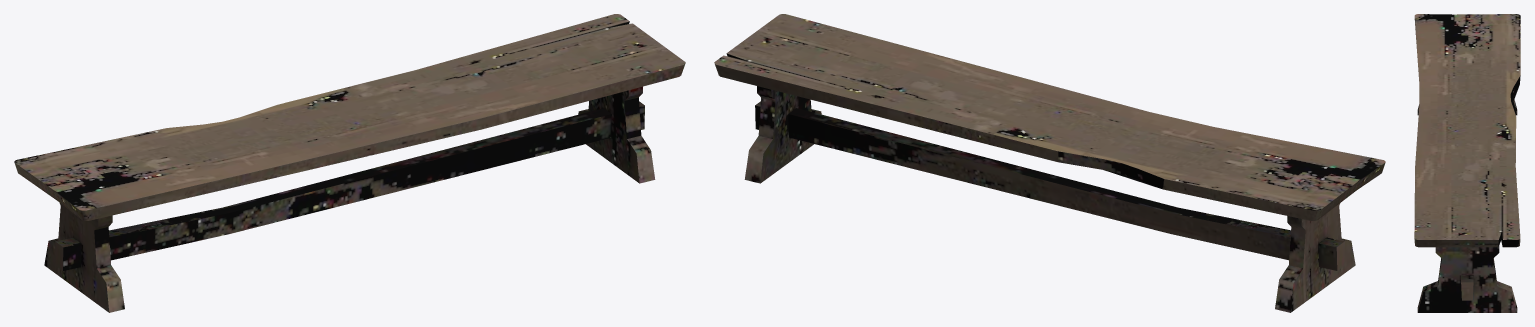
The picture shows the model from 3 angles, left to right: view 1: azimuth 30°, elevation 25°; view 2: azimuth 150°, elevation 25°; view 3: azimuth 270°, elevation 25°; orthographic projection. The views are drawn at different scales.
Visible parts, largest first — view 1: body0_model0_lod0_mesh0; view 2: body0_model0_lod0_mesh0; view 3: body0_model0_lod0_mesh0.
Part boxes in pixels (x1,y1,x2,y2): body0_model0_lod0_mesh0: (14, 14, 685, 312); body0_model0_lod0_mesh0: (714, 14, 1385, 312); body0_model0_lod0_mesh0: (1414, 14, 1520, 312).
Bounding box in the file's own units: 139 × 24.08 × 27.5.
Materials: 1 (1 with a texture image).
